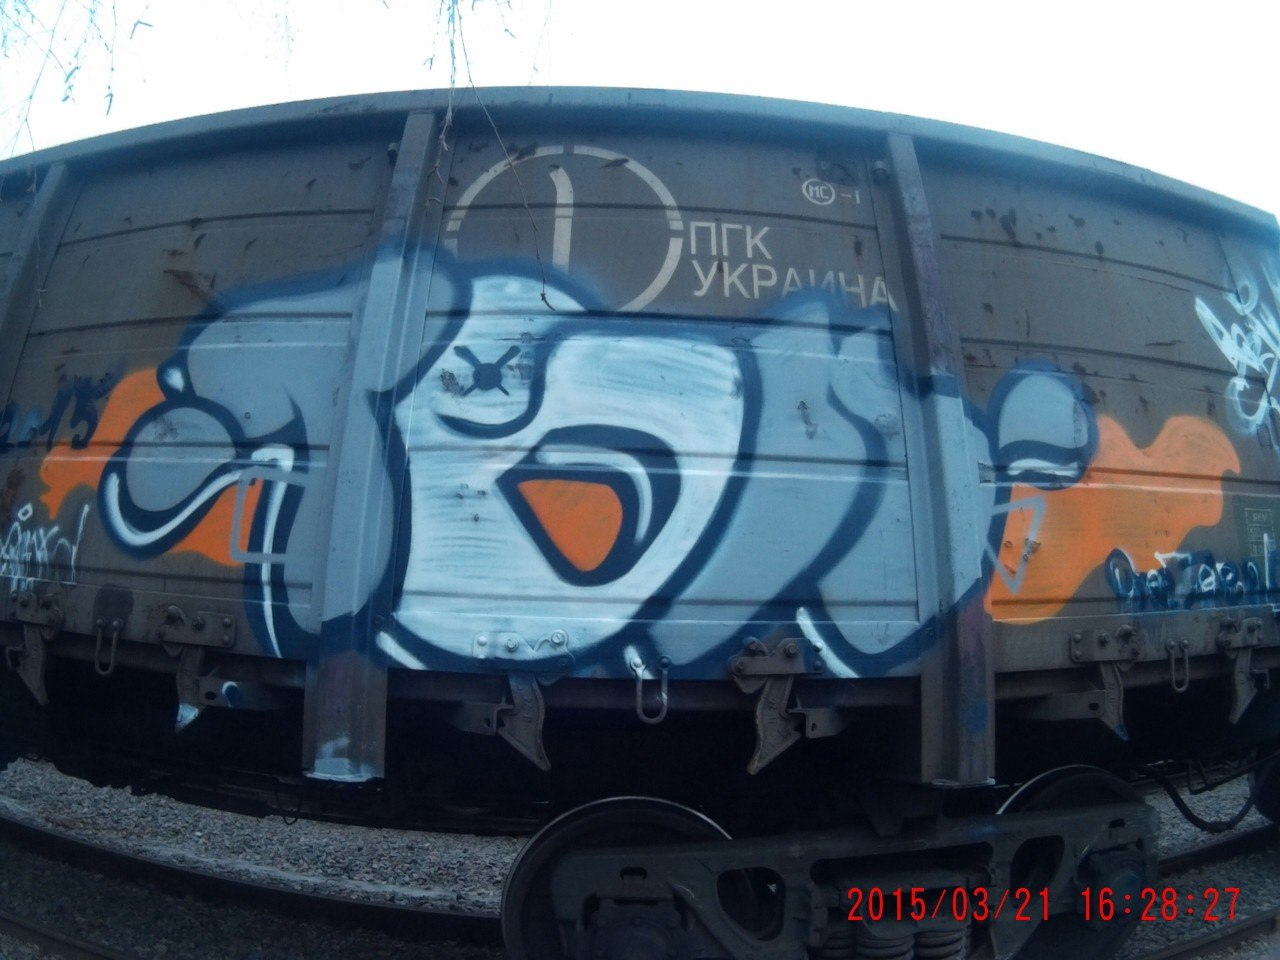graffity: (25, 235, 1243, 680)
